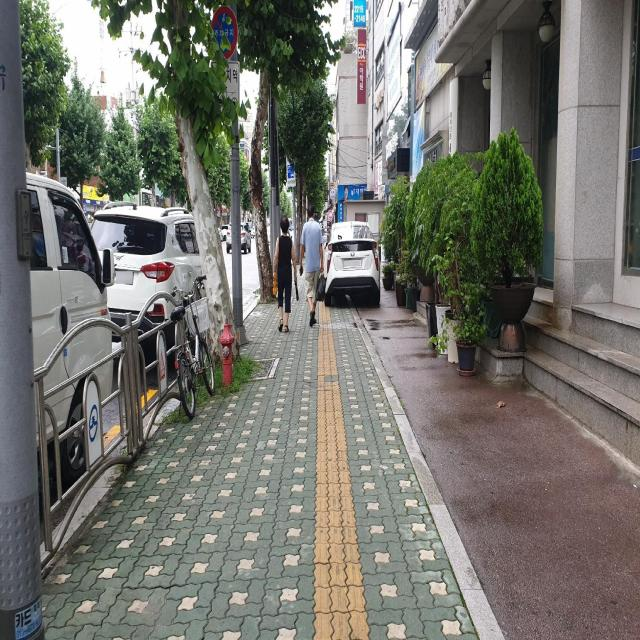bicycle ahead at: (172, 272, 216, 424)
car ahead at: (328, 215, 383, 315)
plant ahead at: (477, 127, 540, 358)
